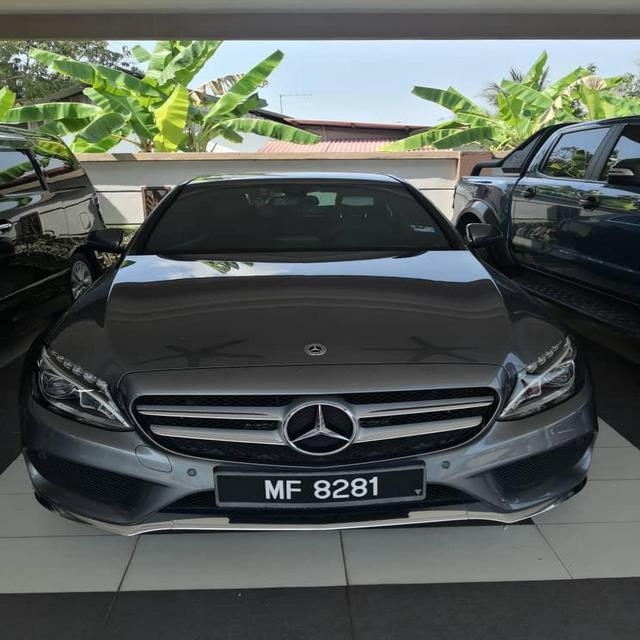License_Plate: (210, 460, 435, 517)
car: (19, 145, 618, 555)
